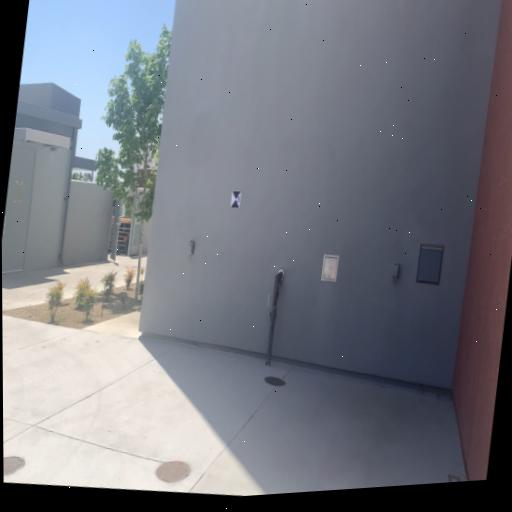target5: (230, 191, 241, 209)
